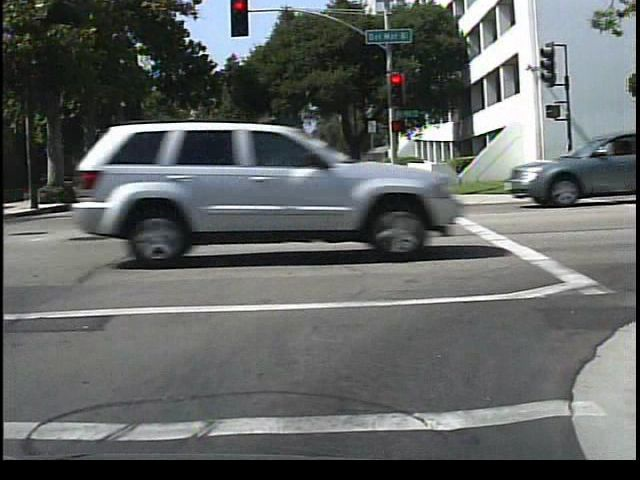person: (589, 130, 614, 189)
